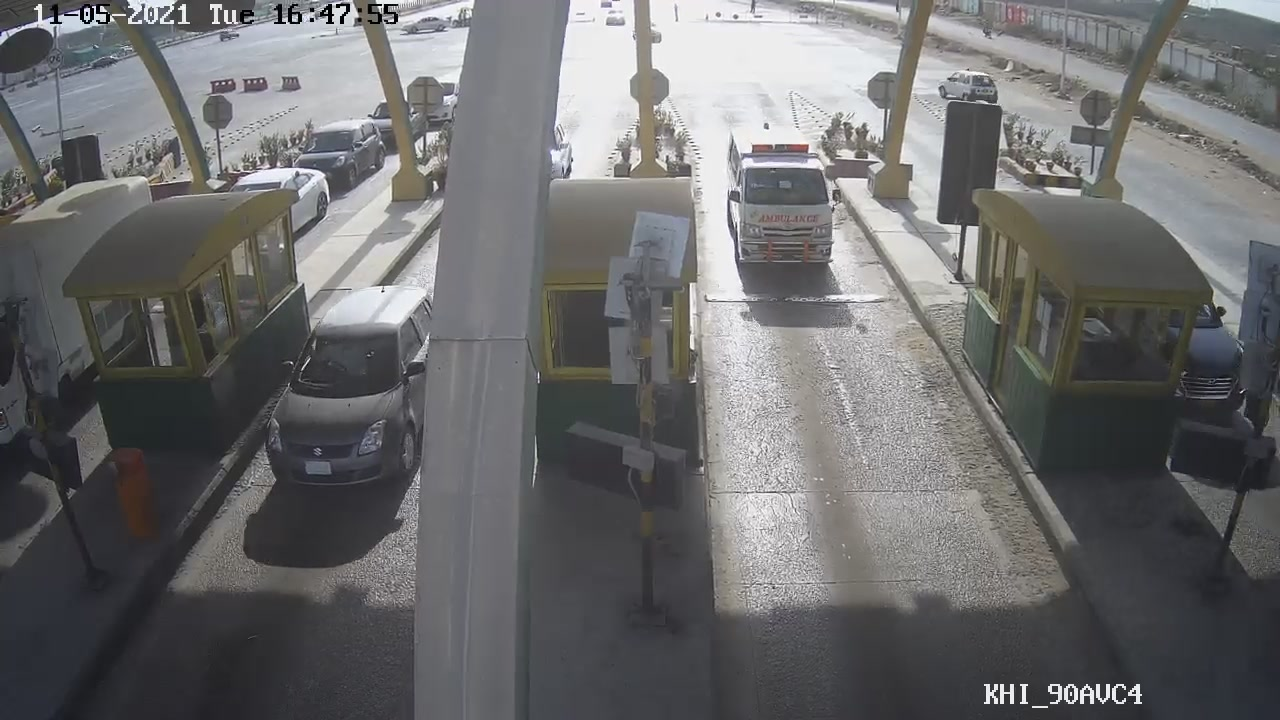F2: (715, 108, 860, 292)
